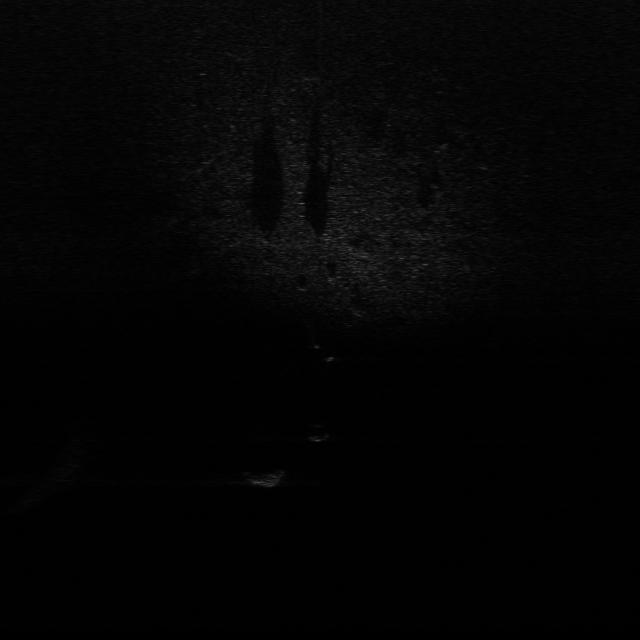ball: (301, 421, 333, 443)
circle cage: (236, 461, 293, 491)
human body: (307, 327, 339, 368)
